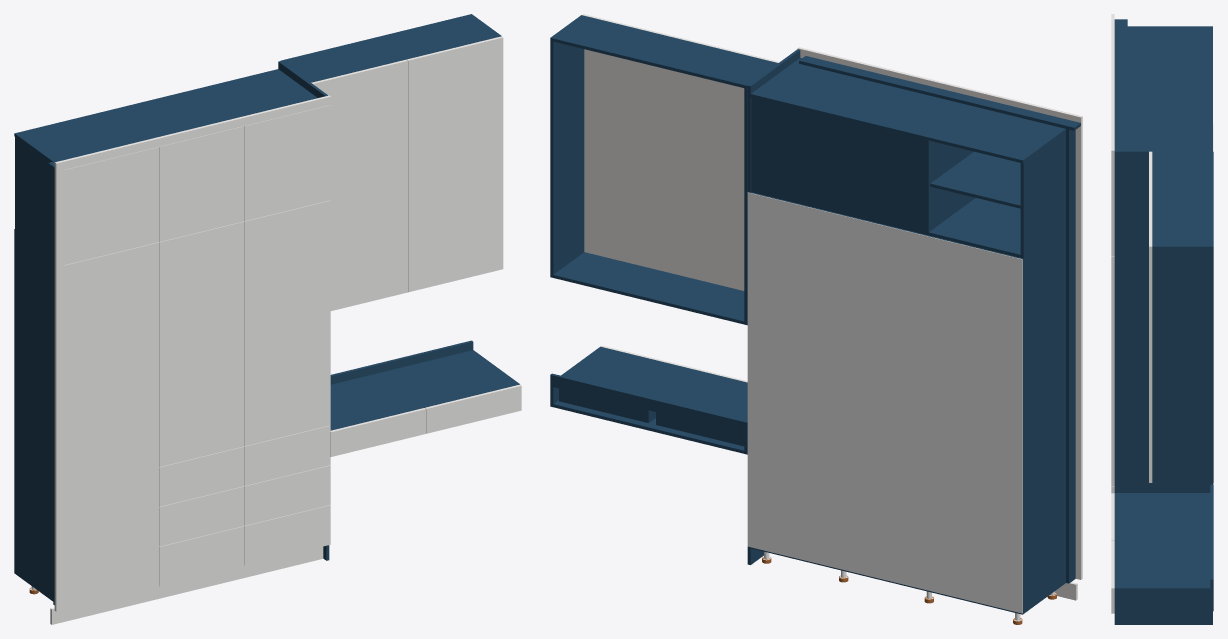
3 renders of one model, left to right at view 1: azimuth 30°, elevation 25°; view 2: azimuth 150°, elevation 25°; view 3: azimuth 270°, elevation 25°, orthographic. The views are drawn at different scales.
Visible parts, largest first — view 1: Шафа; view 2: Шафа; view 3: Шафа.
Part boxes in pixels (x1,y1,x2,y2): Шафа: (14,14,521,624); Шафа: (550,14,1082,624); Шафа: (1111,14,1213,624).
Size of the model in its own units: 2.94 by 2.81 by 0.55.
5 materials, 3 textured.
